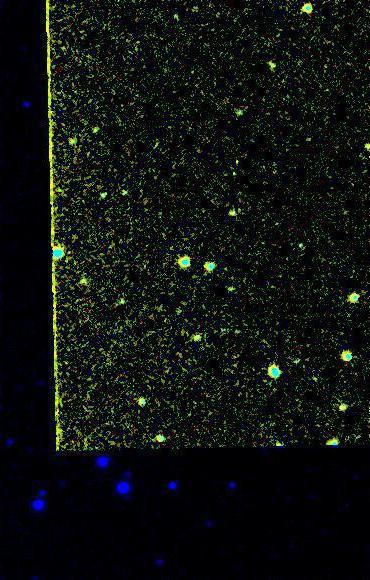star: (224, 151, 254, 181)
